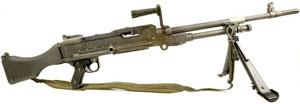rifle: (1, 8, 299, 98)
